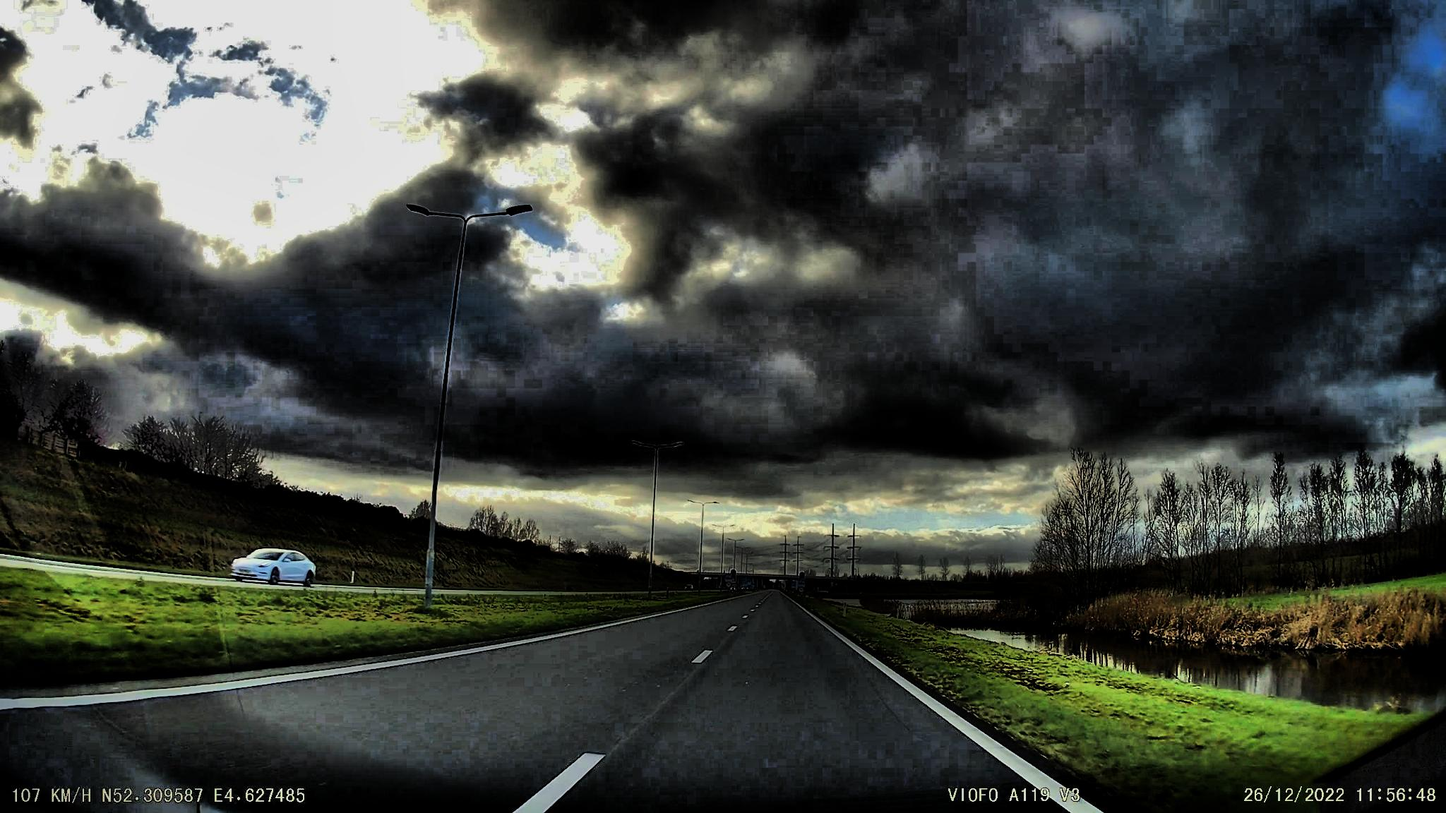Roads: (0, 595, 1115, 813)
